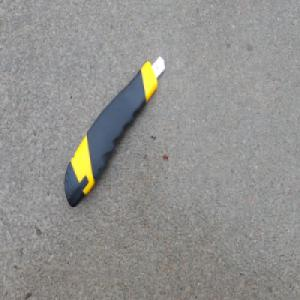Cutter: (64, 53, 166, 208)
